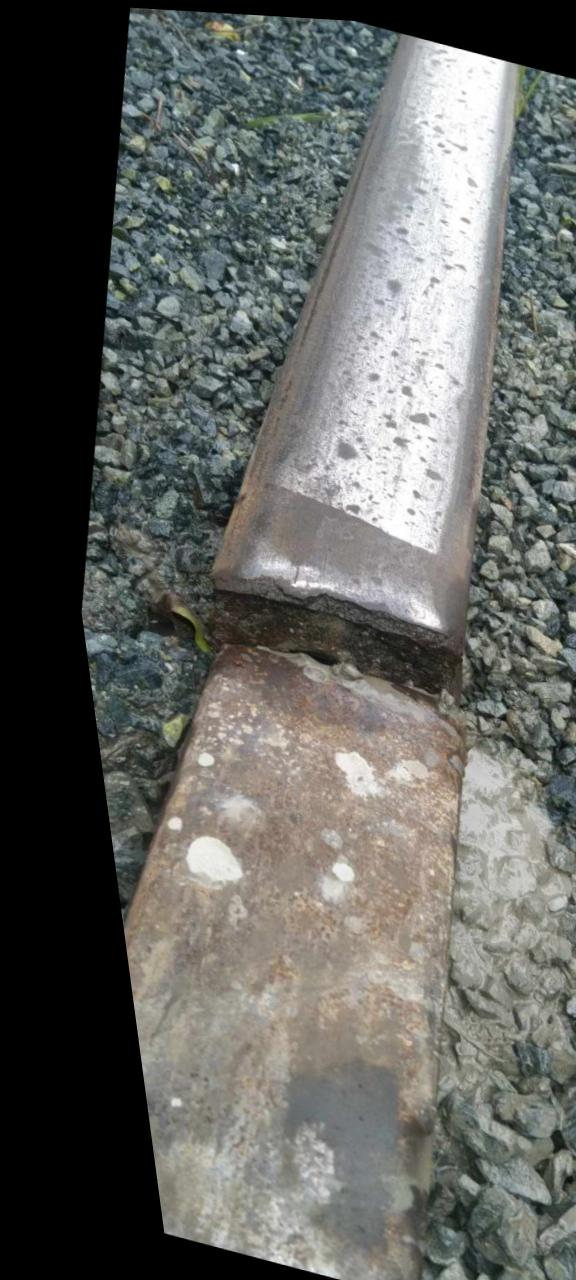person: (40, 374, 576, 874)
